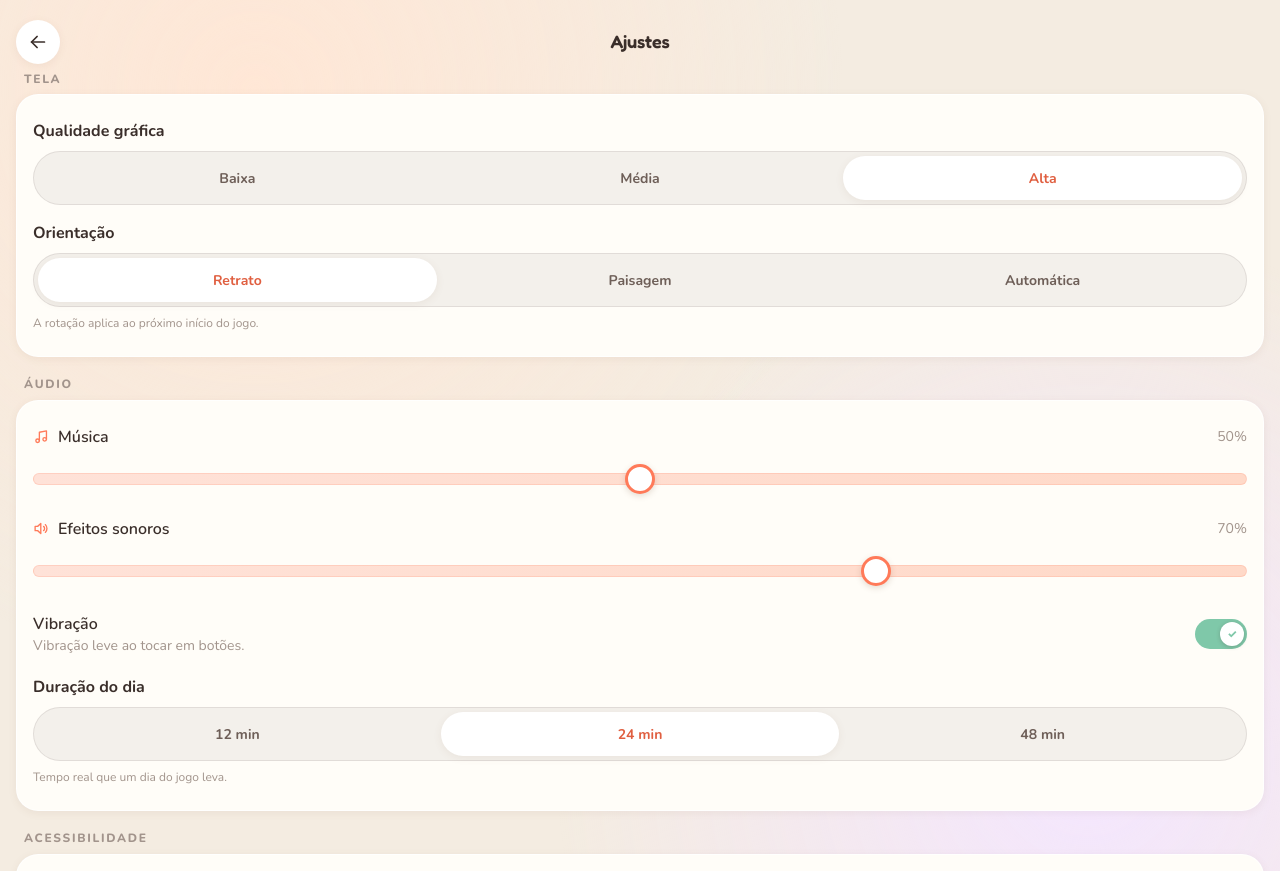
Test: SettingsScreen › applies the graphics quality choice
The image size is (1280, 871).
Click the radio button labelled "Baixa": x=237, y=178 x1=38 y1=156 x2=437 y2=200
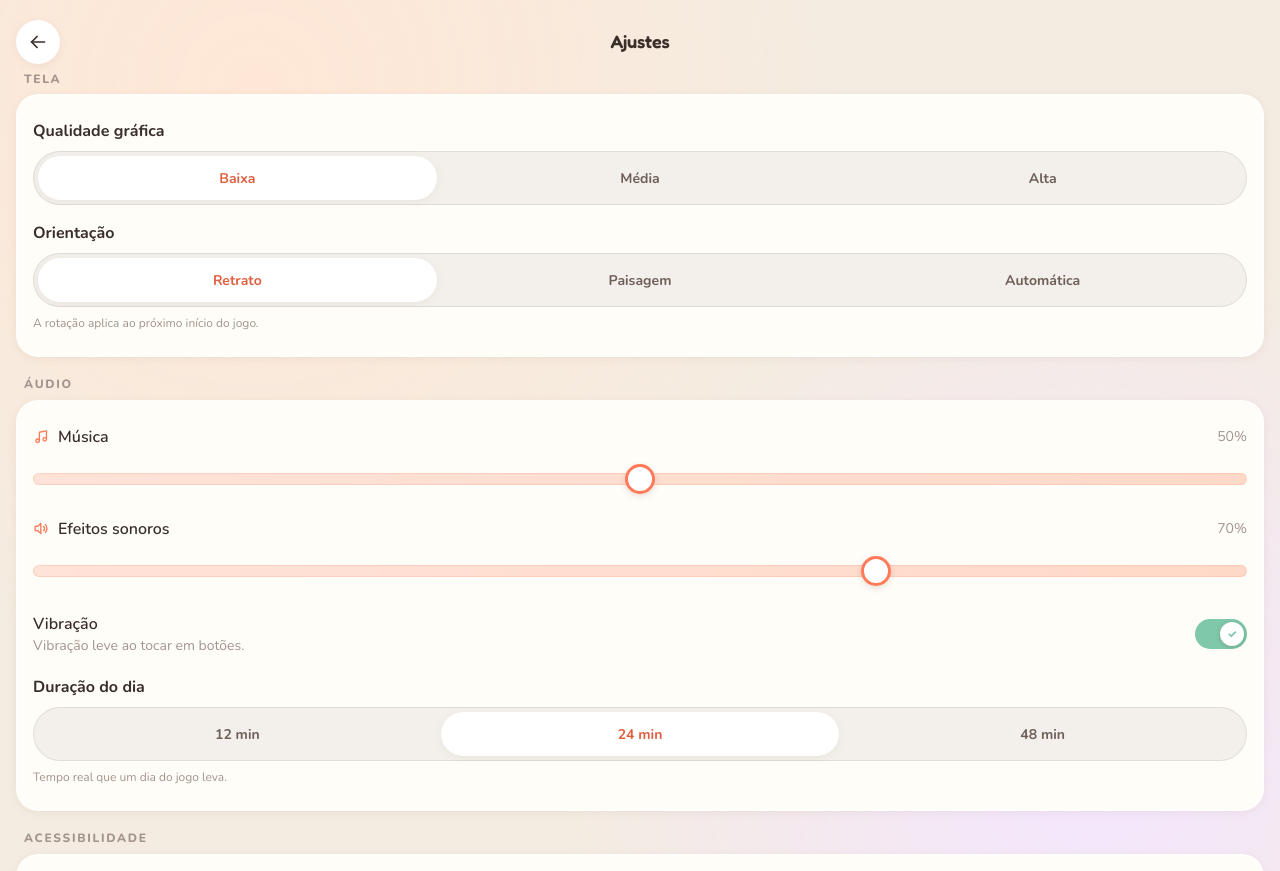
Now the radio button labelled "Baixa" is checked, box x1=38 y1=156 x2=437 y2=200
